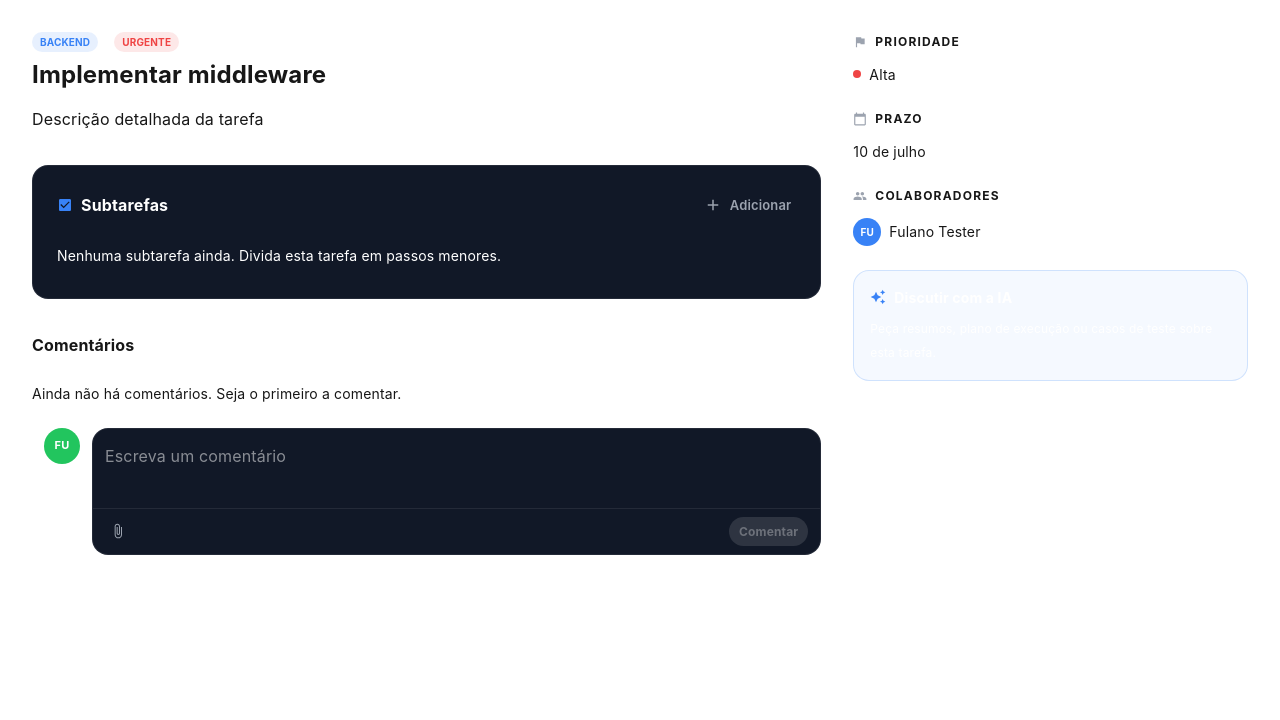
Test case: <TaskDetail /> › exibe erro quando createCommentAction retorna error
Type "Vai falhar" into the text box with placeholder "Escreva um comentário" at (457, 468), box [105, 445, 808, 491]
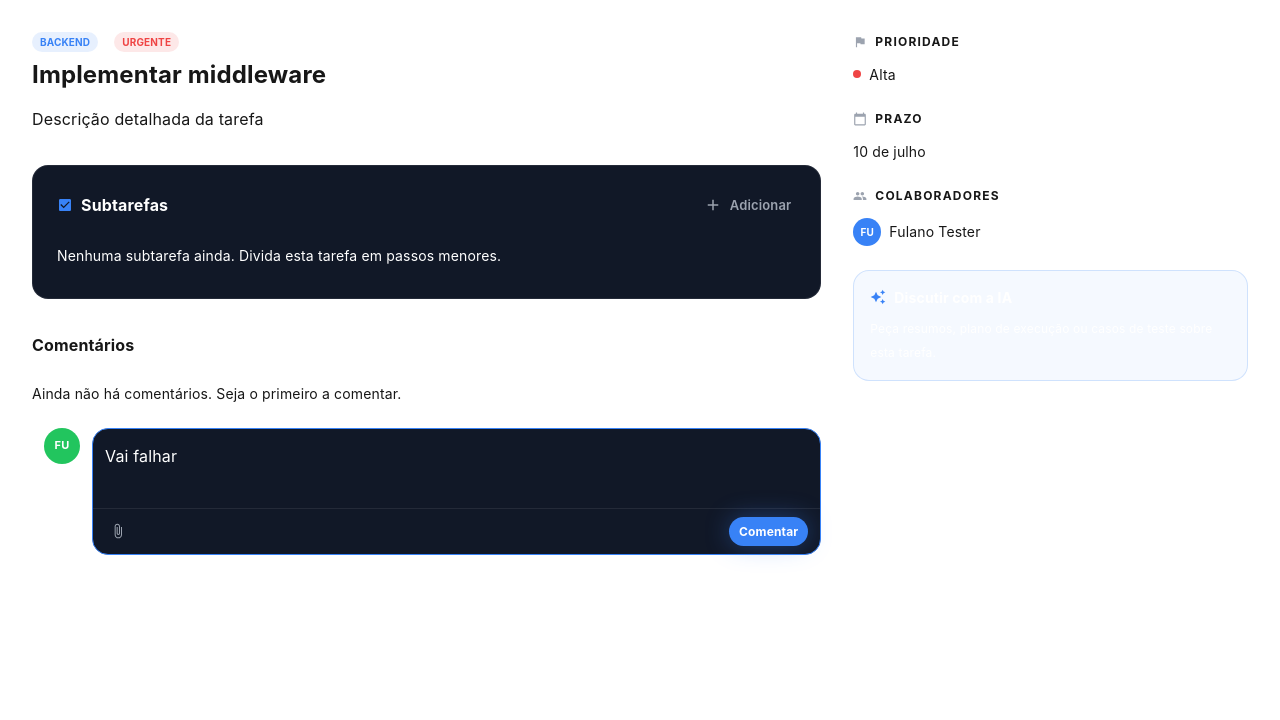
Click the button "Comentar" at (769, 531), box [729, 517, 808, 546]
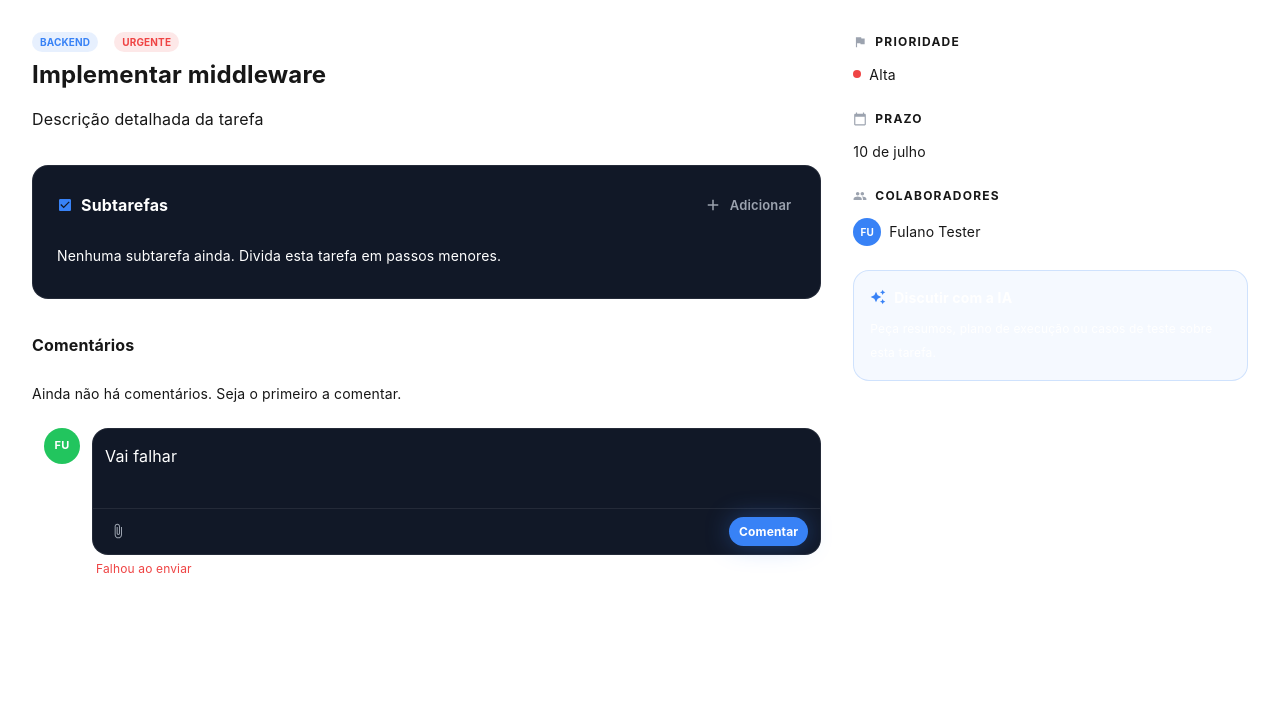
Expected: the text "Falhou ao enviar" is shown, [96, 561, 192, 576]
